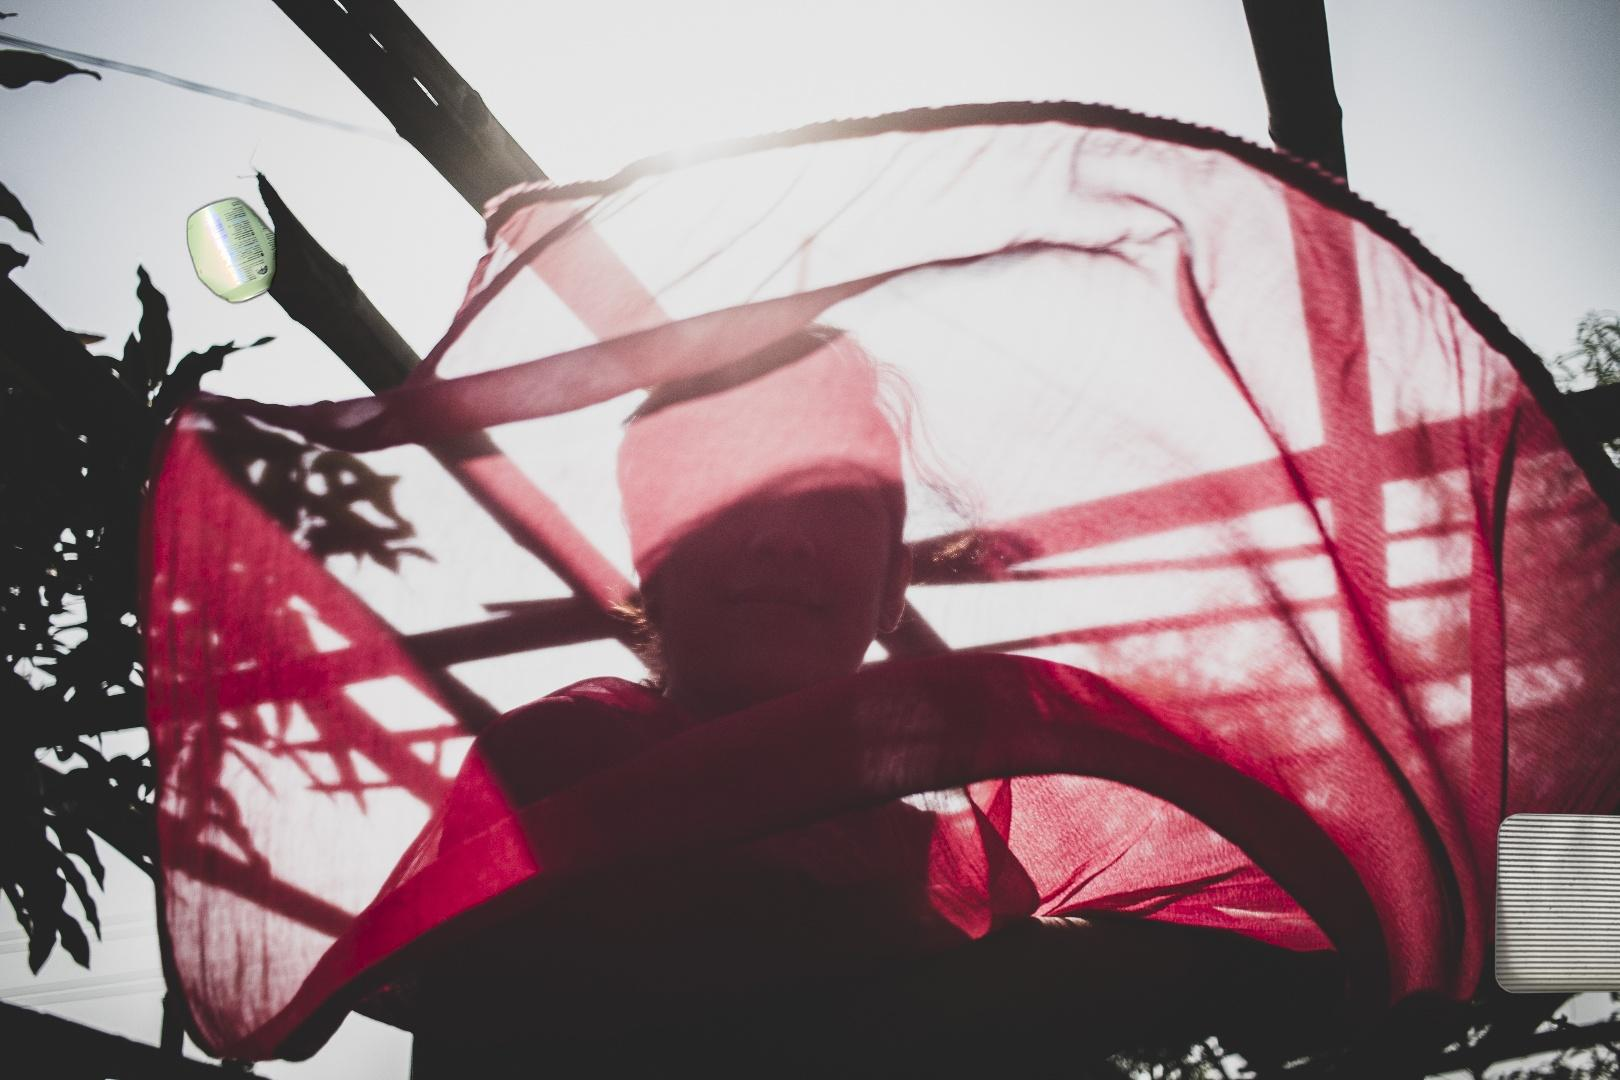metal-cans: (182, 190, 282, 309)
paper: (1490, 809, 1620, 997)
plastic-bag: (90, 1075, 231, 1080)
